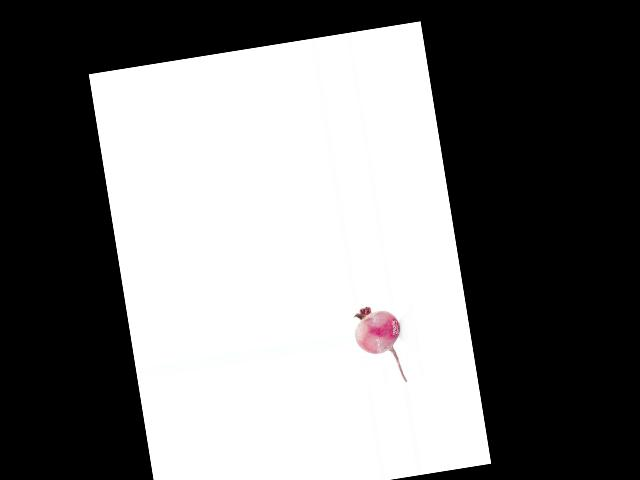beet: (351, 302, 408, 388)
